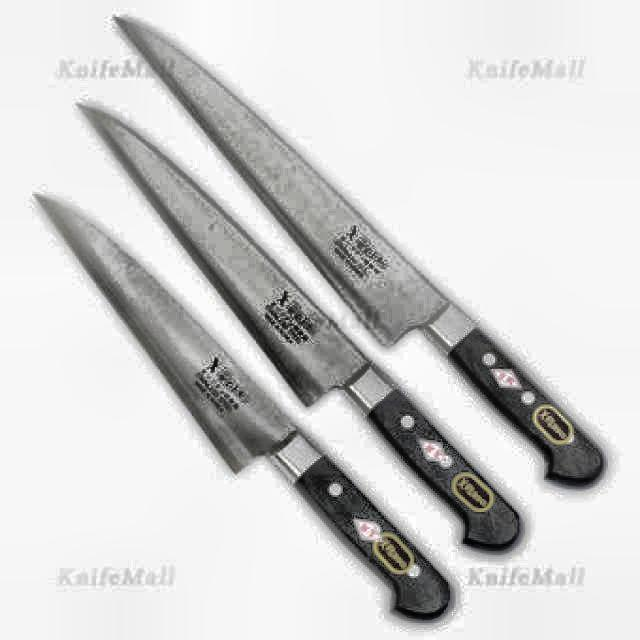knife: (113, 12, 610, 493), (74, 101, 528, 555), (35, 190, 458, 622)
